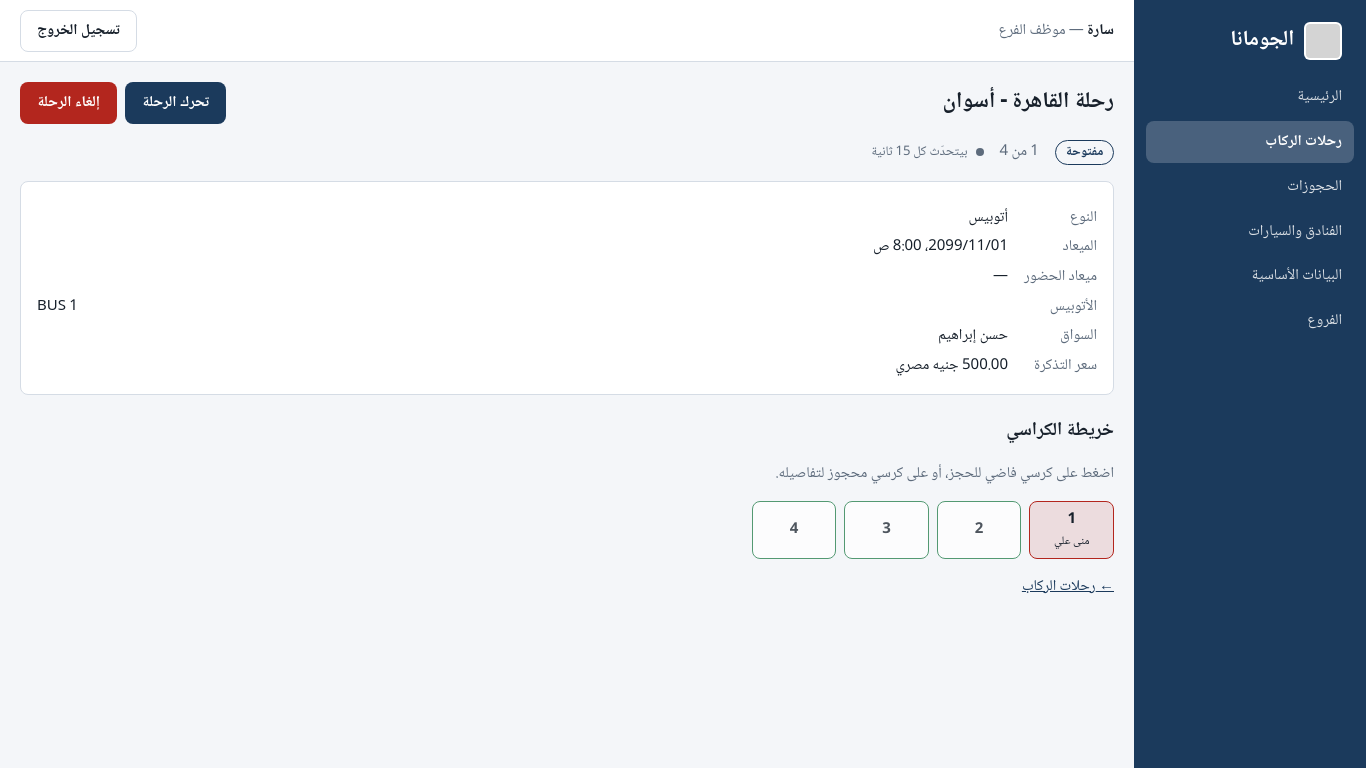
seat map › departs the trip after confirmation
This screenshot has width=1366, height=768.
Step 1. Click the button "تحرك الرحلة" → x=176, y=103, box [125,82,226,124]
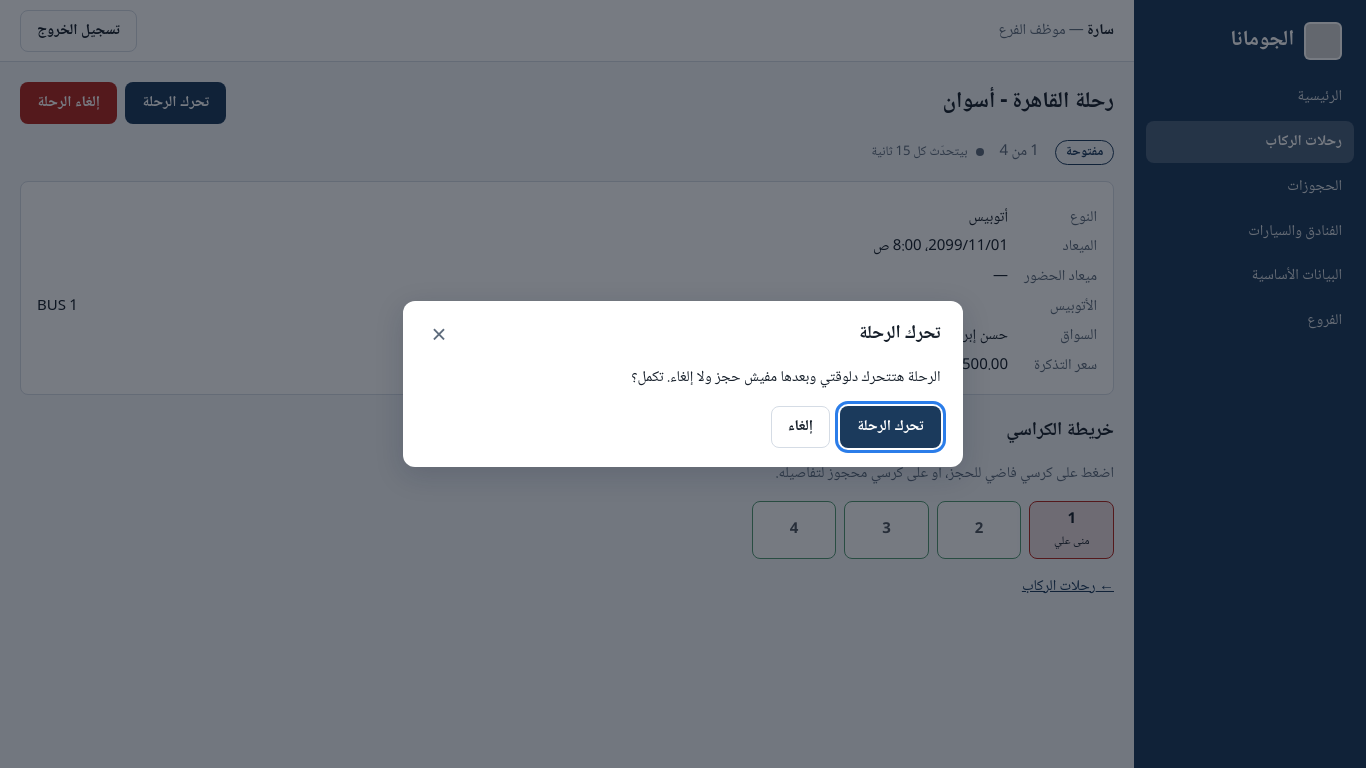
Expected: the text "الرحلة هتتحرك دلوقتي وبعدها مفيش حجز ولا إلغاء. تكمل؟" is shown, [631,365,941,391]
Step 2. Click the button "تحرك الرحلة" → x=890, y=427, box [840,406,941,448]
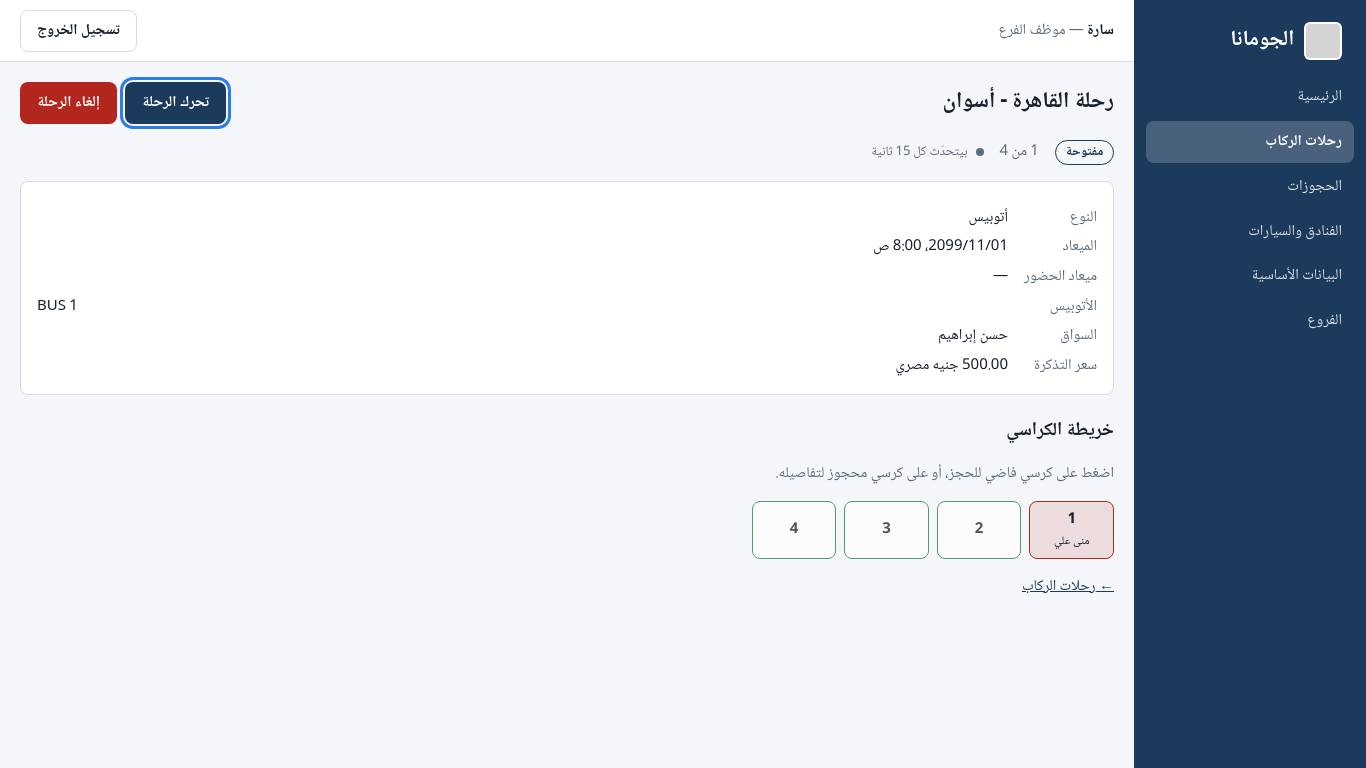
Expected: the dialog is gone
